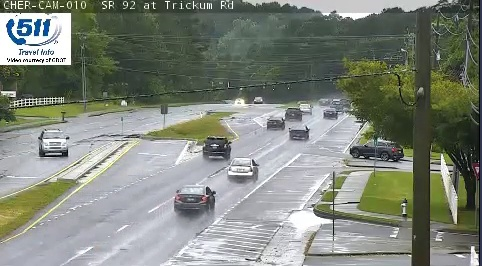car: (174, 185, 214, 211), (227, 158, 258, 178), (202, 136, 230, 157), (289, 125, 309, 138), (266, 117, 283, 129), (285, 107, 300, 120), (323, 108, 337, 119)
